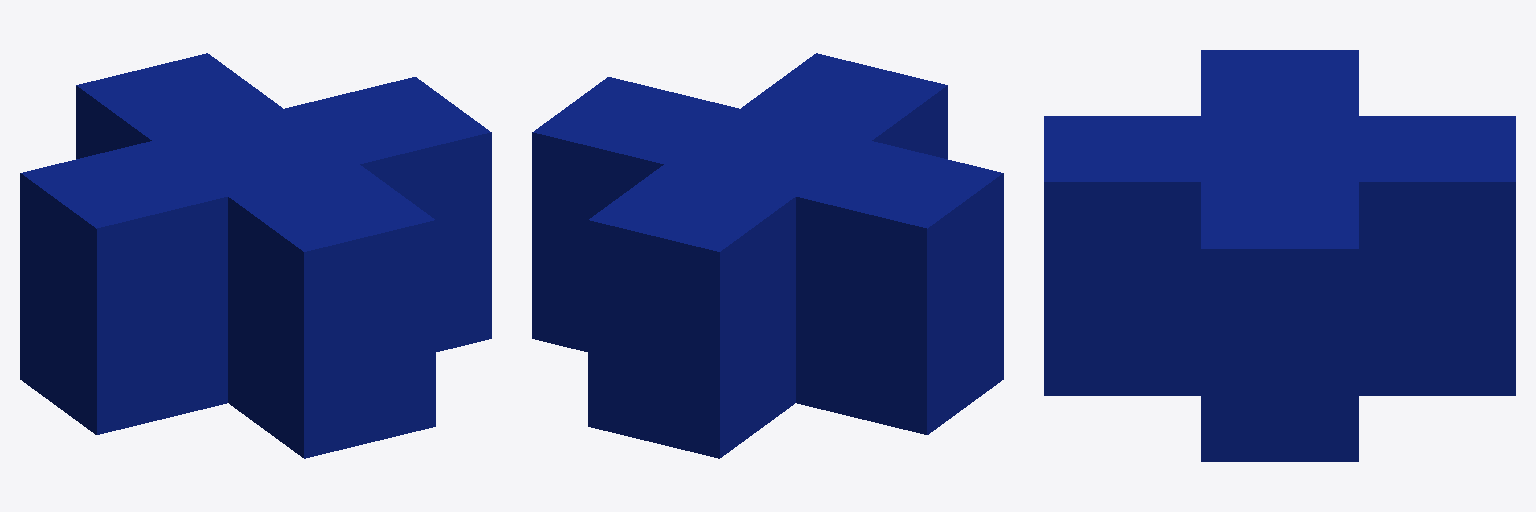
URDF robot description (block):
<robot name="block">
  <link name="block_base_link">
    <inertial>
      <origin rpy="0 0 0" xyz="0.05 0.03 0.015"/>
      <mass value="0.05"/>
      <inertia ixx="1.61e-05" ixy="0.0" ixz="0.0" iyy="1.61e-05" iyz="0.0" izz="2.32e-05"/>
    </inertial>
    <collision>
      
      <geometry>
        <mesh filename="5.STL" scale="1 1 1"/>
      </geometry>
    </collision>
    <visual>
 
      <geometry>
        <mesh filename="5.STL" scale="1 1 1"/>
      </geometry>
      <material name="tray_material">
        <color rgba="0.1 0.2 0.6 1"/>
      </material>
    </visual>
  </link>
</robot>

--- Facts derived from the render (not from the file) ---
3 views of the same robot in one strip: view 1: azimuth 30°, elevation 25°; view 2: azimuth 150°, elevation 25°; view 3: azimuth 270°, elevation 25° (orthographic).
Model block with 1 links and 0 joints (none), rooted at block_base_link, posed all joints at 0.
Links seen in each view (by area): view 1: block_base_link; view 2: block_base_link; view 3: block_base_link.
Boxes of the visible links, left/top/right/bottom form: block_base_link: left=20, top=53, right=491, bottom=458; block_base_link: left=532, top=53, right=1003, bottom=458; block_base_link: left=1044, top=50, right=1515, bottom=461.
Bounding box of the posed robot: 0.06 × 0.06 × 0.03 m (x, y, z).
Meshes: 1 distinct files referenced, 1 mesh visuals loaded (1 binary STL).